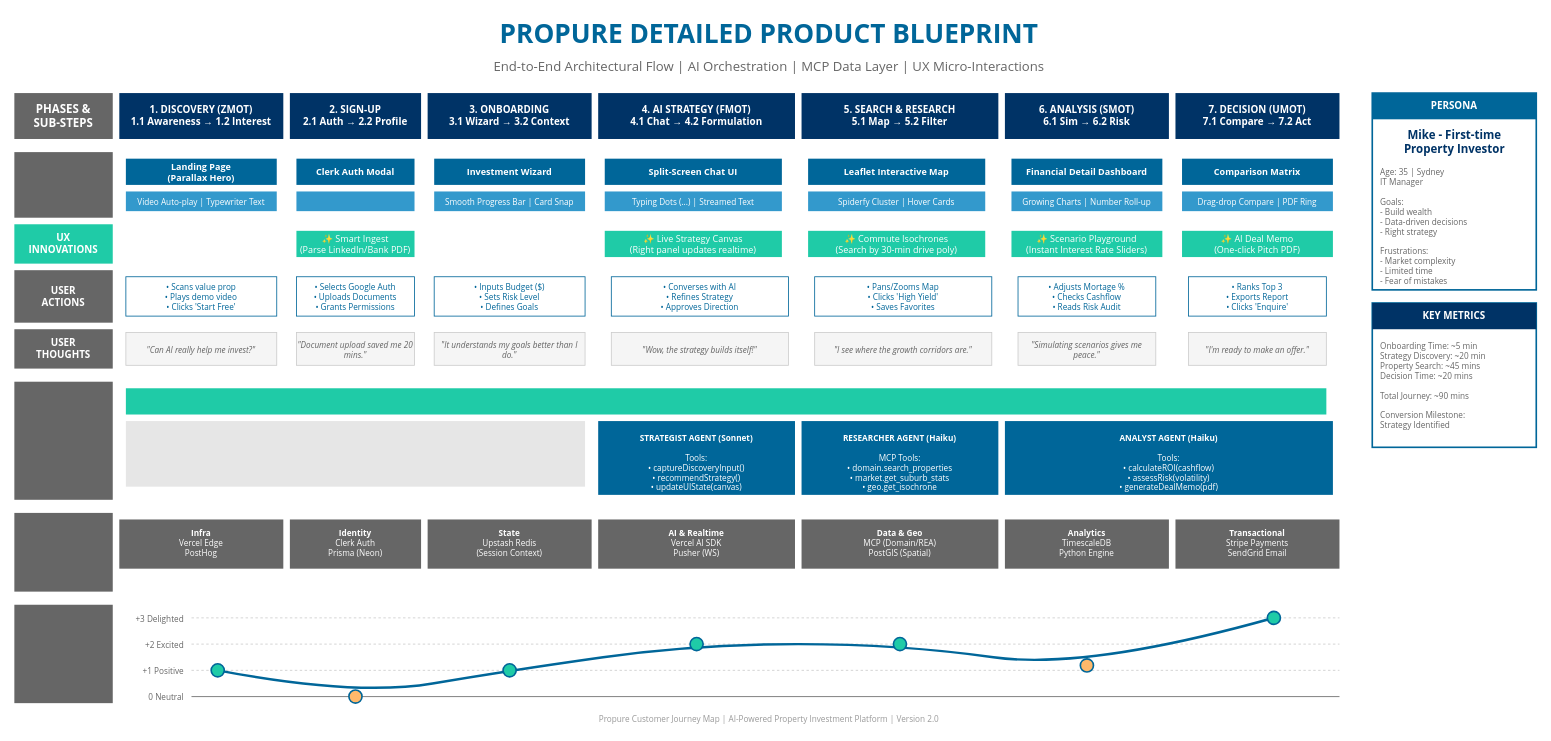
This 1551x741 diagram has some shape labels left out. Here are the shapes that lost their labels. From the top down, the centre of each, then its label:
At [63,184]: "UI TOUCHPOINTS".
At [355,201]: "Social Login | Magic Link".
At [725,401]: "ORCHESTRATOR (Claude Sonnet 4) - Context Manager, Router, Synthesizer".
At [63,440]: "AI AGENTS & TOOLS".
At [355,453]: "No Active Agent (Static Web Flow)".
At [63,551]: "BACKEND STACK".
At [63,653]: "EMOTION CURVE".
